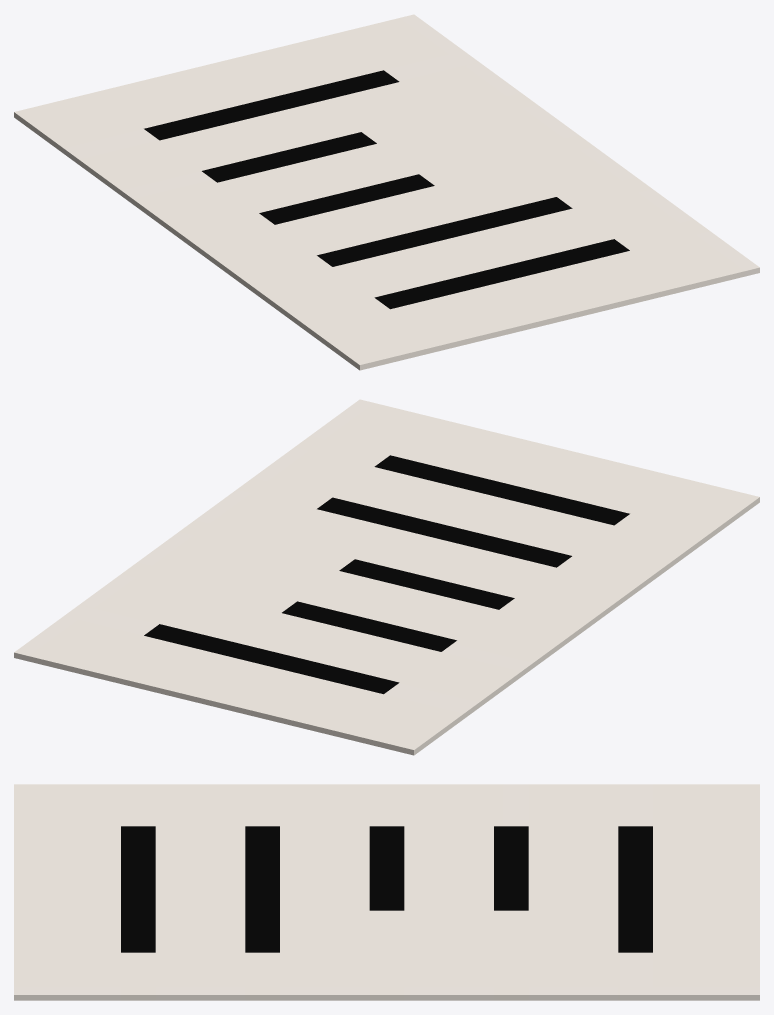
Rendered from PaperSingle.fbx.
3 views of the same model, one above another, from view 1: azimuth 30°, elevation 25°; view 2: azimuth 150°, elevation 25°; view 3: azimuth 270°, elevation 25° (orthographic). The views are drawn at different scales.
Parts seen in each view (by area): view 1: PaperSingle; view 2: PaperSingle; view 3: PaperSingle.
Part boxes in pixels (bbox=[...]): PaperSingle: bbox=[14, 14, 759, 370]; PaperSingle: bbox=[14, 399, 759, 755]; PaperSingle: bbox=[14, 784, 759, 1000].
Size of the model in its own units: 57.58 by 0.7465 by 86.19.
